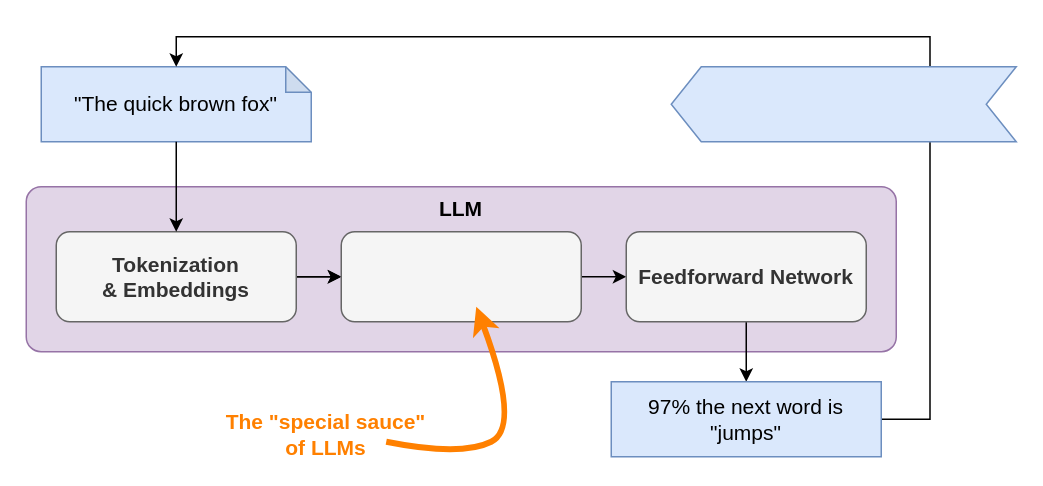
This 1043x486 diagram has some shape labels left out. Here are the shapes that lost their labels. From the top down, the centre of each, then its label:
the point at 843,103: add token to input "The quick brown fox jumps "
the point at 460,276: Self-Attention
